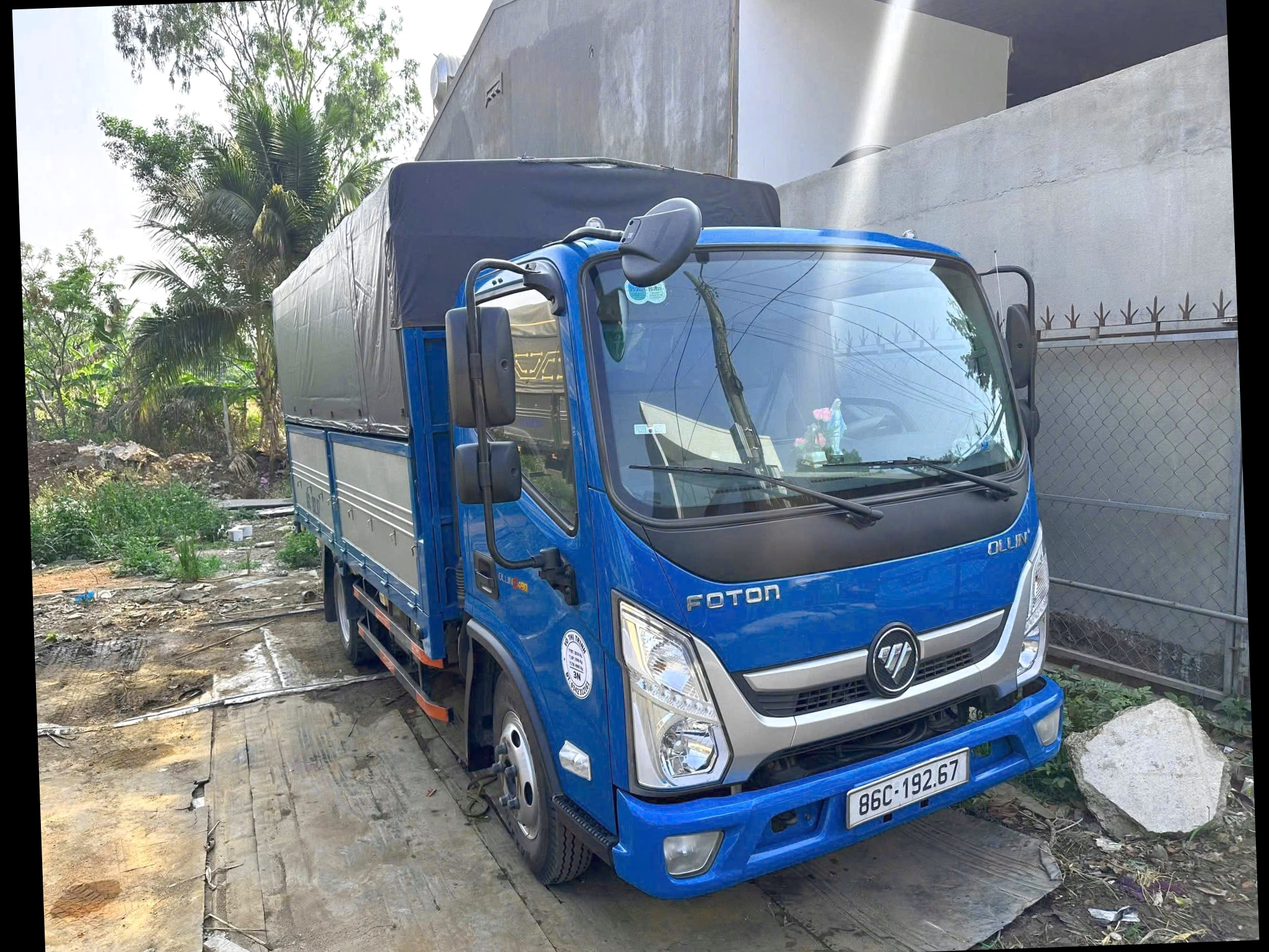Bien-so: (872, 758, 1004, 842)
